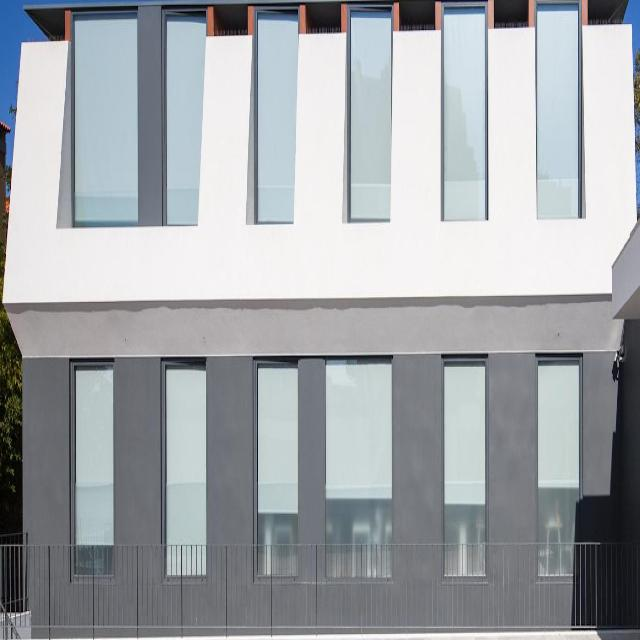railing: (1, 545, 639, 634)
window: (70, 13, 138, 223), (325, 354, 392, 548), (444, 0, 488, 221), (255, 7, 299, 224), (537, 2, 580, 222), (350, 7, 391, 221), (165, 14, 206, 226), (443, 352, 486, 543), (537, 348, 579, 542), (255, 359, 299, 541), (165, 366, 207, 538), (72, 371, 114, 542)
